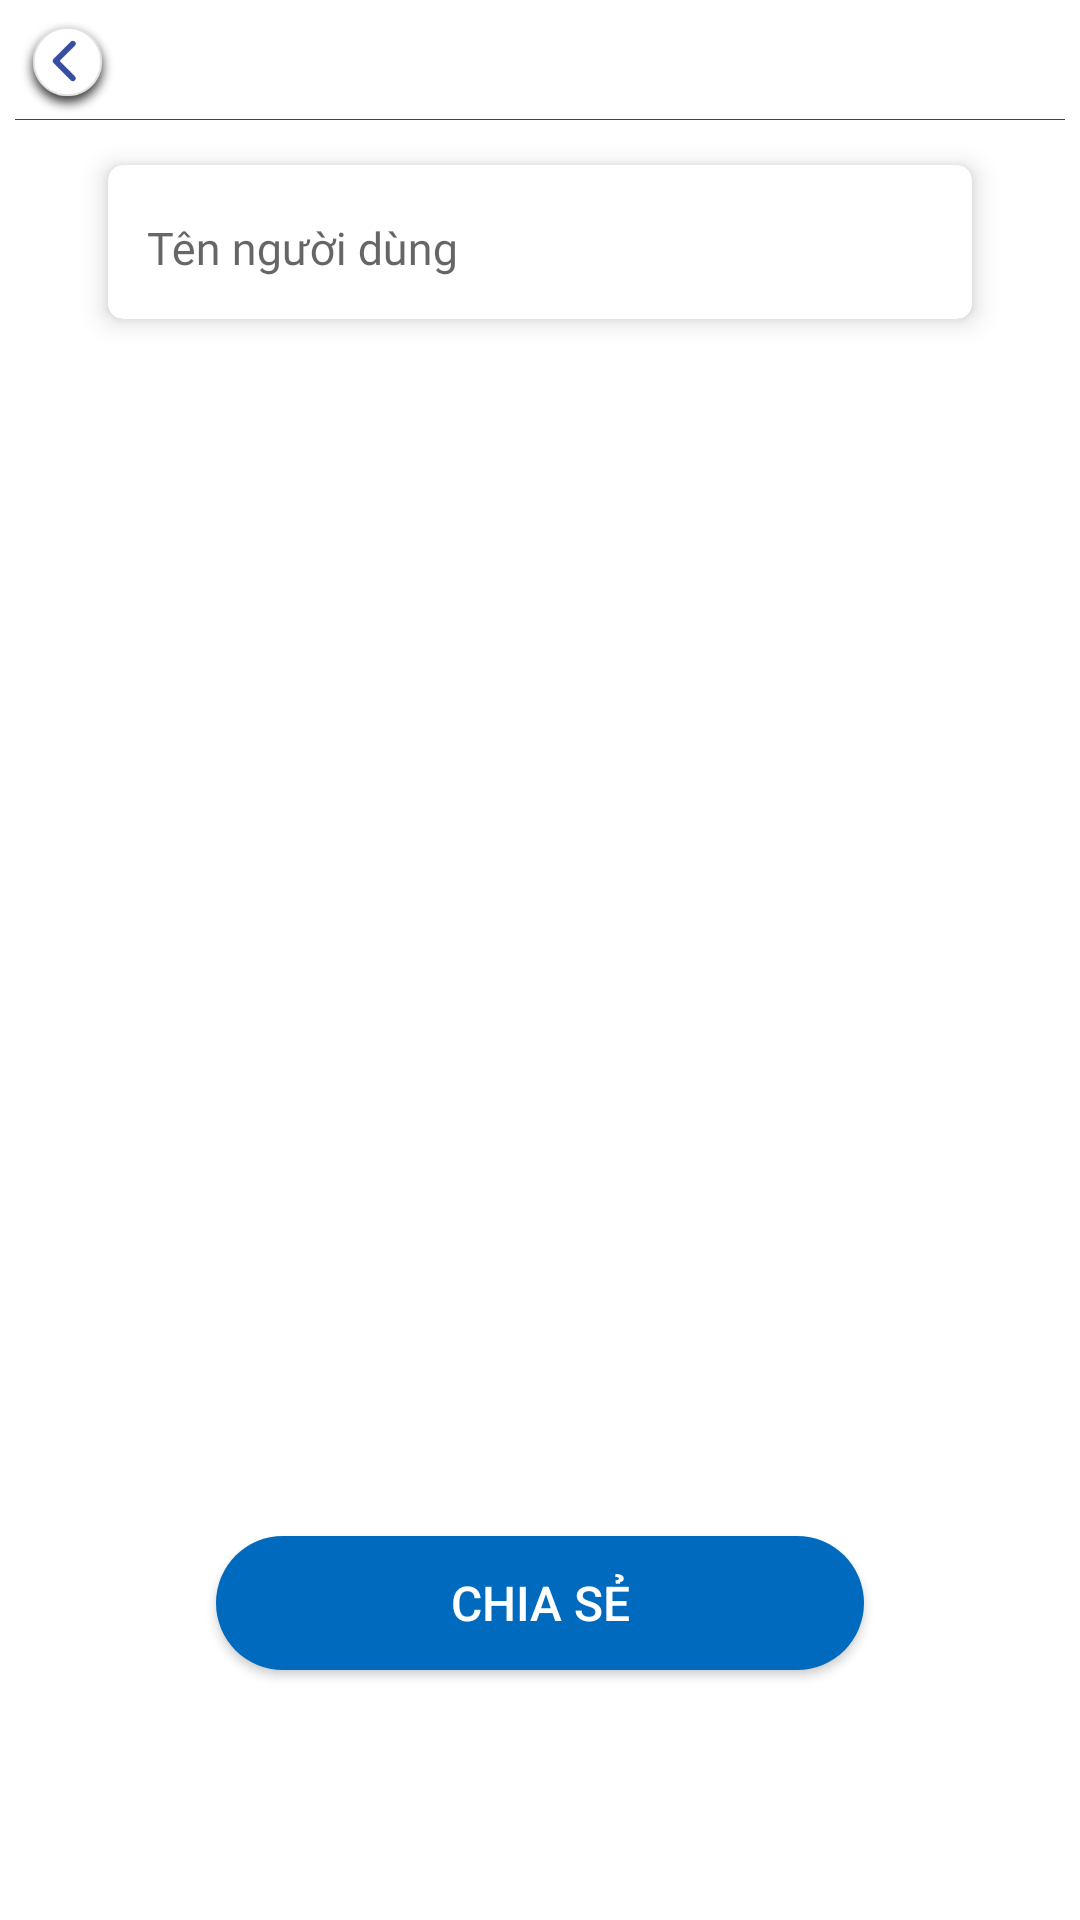

Screen size 1080x1920. Icon name, then its center in pixels as point (x, y):
back circle: point (67, 67)
